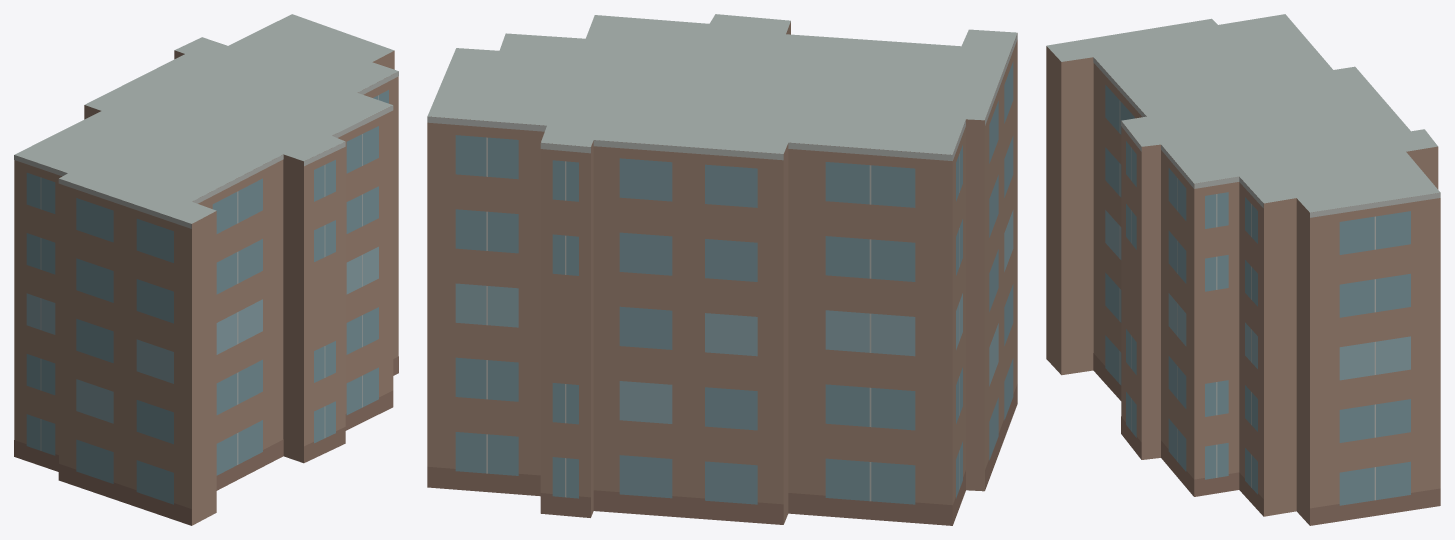
Rendered from survey-upis-32473210.glb.
3 renders of one model, left to right at view 1: azimuth 30°, elevation 25°; view 2: azimuth 150°, elevation 25°; view 3: azimuth 270°, elevation 25°, orthographic. The views are drawn at different scales.
Parts seen in each view (by area): view 1: survey-upis-32473210.tmp; view 2: survey-upis-32473210.tmp; view 3: survey-upis-32473210.tmp.
Part boxes in pixels (<box>): survey-upis-32473210.tmp: <box>14,14,398,525</box>; survey-upis-32473210.tmp: <box>427,14,1017,525</box>; survey-upis-32473210.tmp: <box>1046,14,1440,525</box>.
Bounding box in the file's own units: 19.72 × 14.5 × 16.55.
